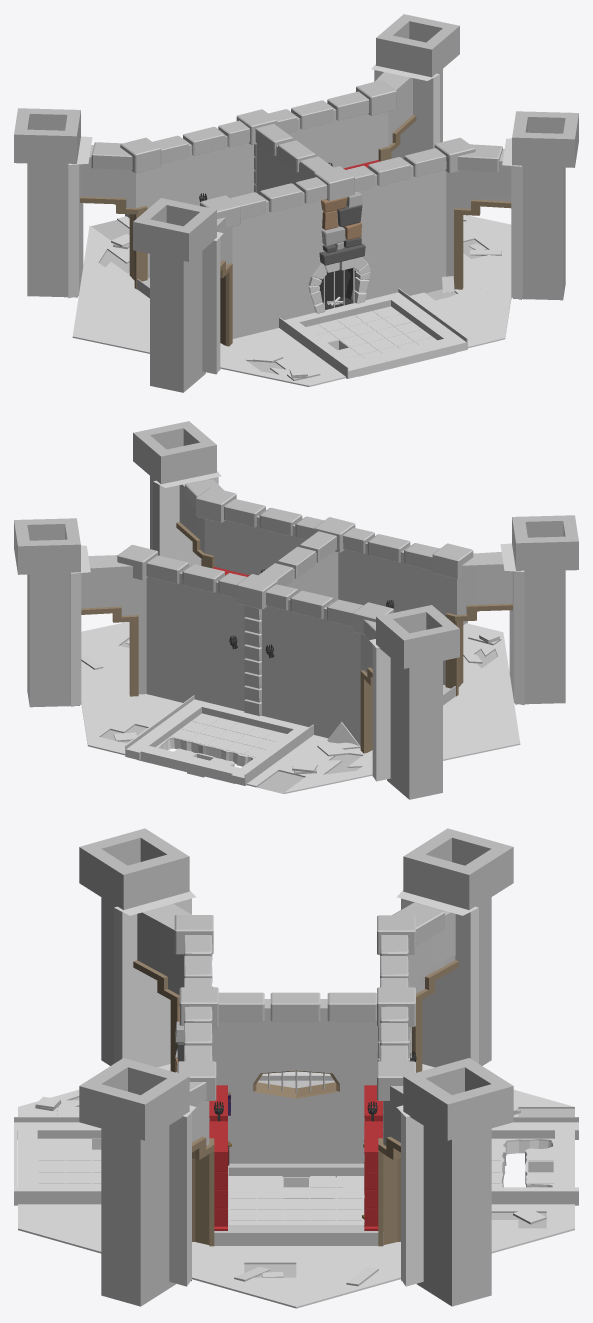
File: firstfloor.fbx
The picture shows the model from 3 angles, top to bottom: view 1: azimuth 30°, elevation 25°; view 2: azimuth 150°, elevation 25°; view 3: azimuth 270°, elevation 25°; orthographic projection. The views are drawn at different scales.
Visible parts, largest first — view 1: firstfloor, Rocks, fireplace; view 2: firstfloor; view 3: firstfloor.
Boxes of the visible parts, left/top/right/bottom form: firstfloor: left=14, top=14, right=578, bottom=392; Rocks: left=319, top=191, right=365, bottom=265; fireplace: left=308, top=257, right=370, bottom=313; firstfloor: left=14, top=421, right=578, bottom=799; firstfloor: left=14, top=828, right=578, bottom=1308.
Bounding box in the file's own units: 248 × 90.95 × 212.
